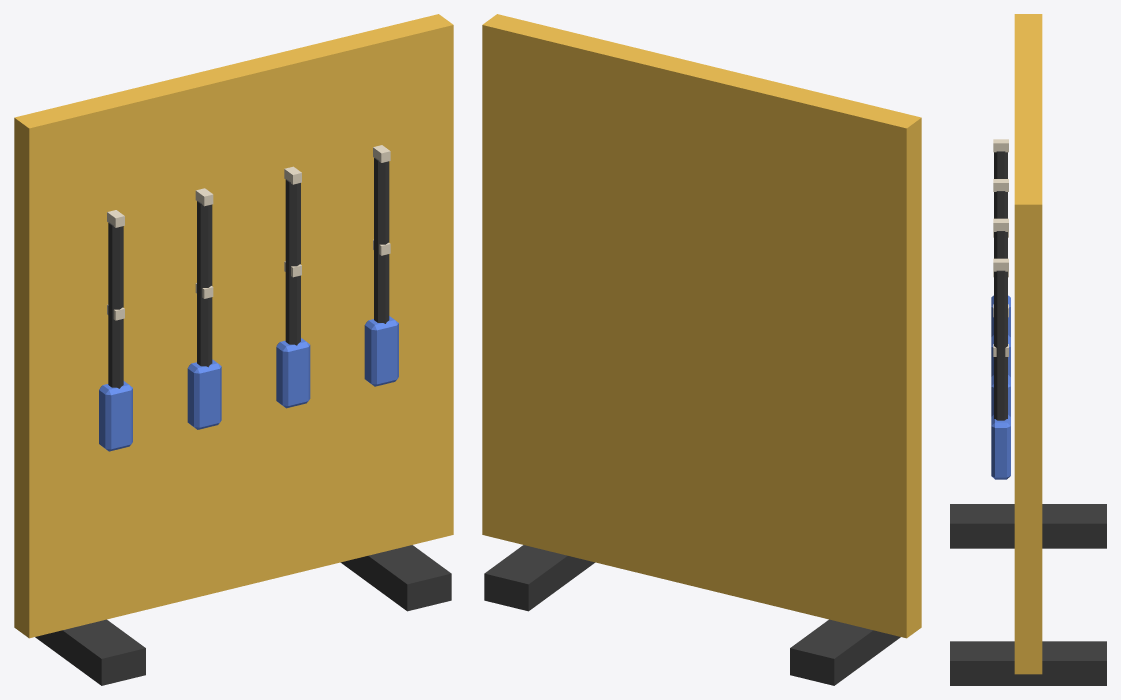
3 views of the same model, side by side, from view 1: azimuth 30°, elevation 25°; view 2: azimuth 150°, elevation 25°; view 3: azimuth 270°, elevation 25° (orthographic). The views are drawn at different scales.
Parts seen in each view (by area): view 1: Panel, Panel foot.001, Panel foot, Tool shank.002, Tool shank.001, Tool shank, Tool shank.003, Tool grip.001, Tool grip.002, Tool grip.003, Tool grip; view 2: Panel, Panel foot.001, Panel foot; view 3: Panel, Panel foot.001, Panel foot, Tool shank.003, Tool grip.003, Tool shank, Tool shank.001, Tool shank.002.
Boxes of the visible parts, x1=… form: Panel: x1=14, y1=14, x2=453, y2=638; Panel foot.001: x1=340, y1=545, x2=451, y2=611; Panel foot: x1=35, y1=619, x2=145, y2=685; Tool shank.002: x1=285, y1=179, x2=300, y2=345; Tool shank.001: x1=197, y1=200, x2=212, y2=367; Tool shank: x1=108, y1=222, x2=123, y2=388; Tool shank.003: x1=374, y1=157, x2=389, y2=323; Tool grip.001: x1=187, y1=359, x2=221, y2=429; Tool grip.002: x1=276, y1=338, x2=310, y2=408; Tool grip.003: x1=364, y1=316, x2=398, y2=386; Tool grip: x1=99, y1=381, x2=132, y2=451; Panel: x1=482, y1=14, x2=921, y2=638; Panel foot.001: x1=484, y1=545, x2=595, y2=611; Panel foot: x1=790, y1=619, x2=900, y2=685; Panel: x1=1014, y1=14, x2=1042, y2=674; Panel foot.001: x1=950, y1=641, x2=1106, y2=685; Panel foot: x1=950, y1=504, x2=1106, y2=548; Tool shank.003: x1=994, y1=270, x2=1007, y2=420; Tool grip.003: x1=991, y1=415, x2=1010, y2=479; Tool shank: x1=994, y1=151, x2=1007, y2=178; Tool shank.001: x1=994, y1=191, x2=1007, y2=218; Tool shank.002: x1=994, y1=231, x2=1007, y2=258.
Bounding box in the file's own units: 1.15 × 1.4 × 0.4.
Materials: 1 (1 with a texture image).
